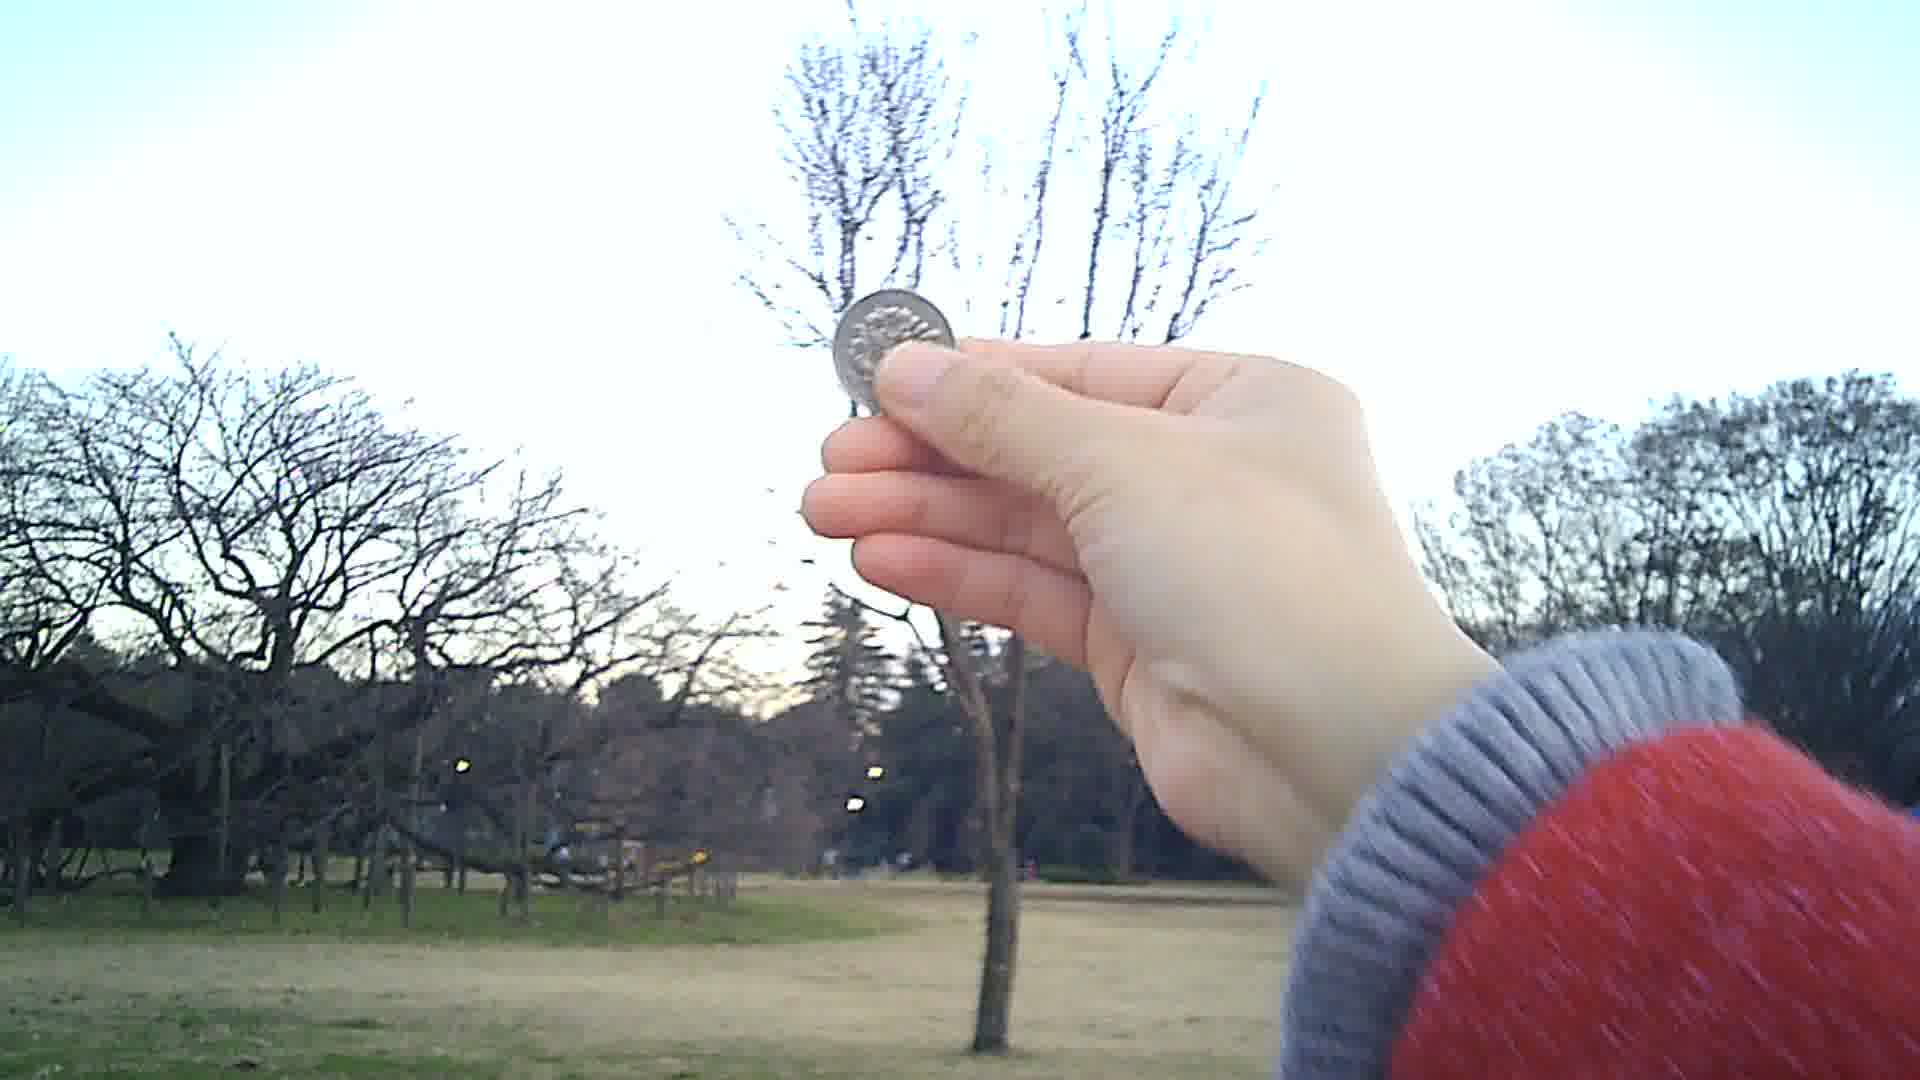100 Yen: (828, 284, 959, 421)
